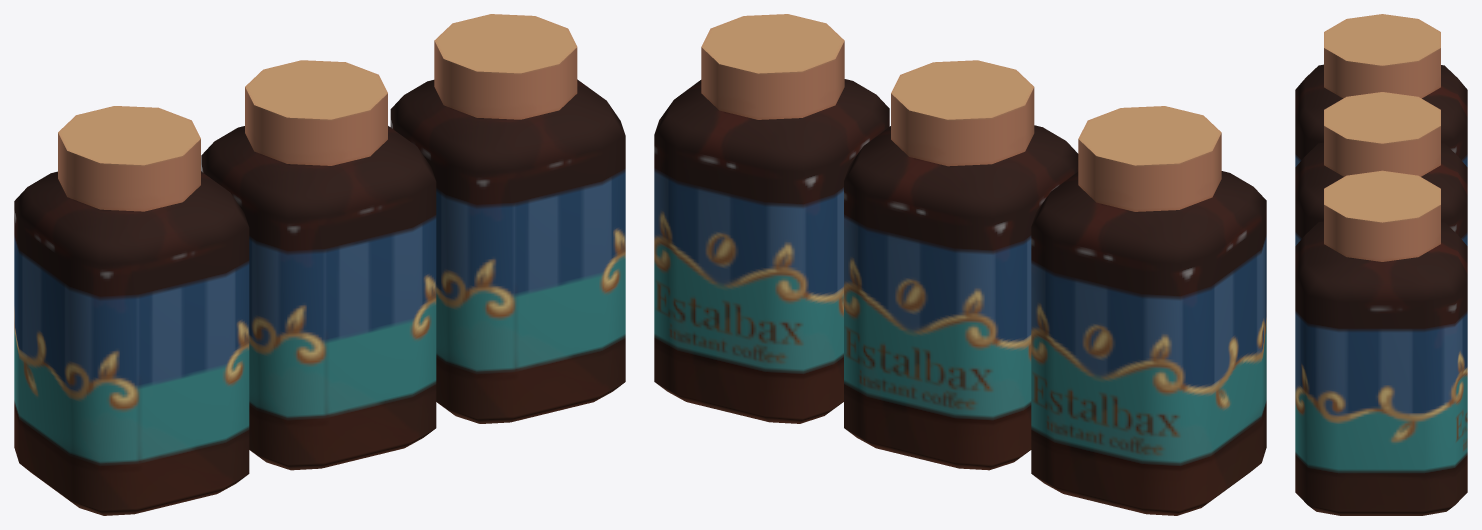
The model's file is coffee.fbx.
3 renders of one model, left to right at view 1: azimuth 30°, elevation 25°; view 2: azimuth 150°, elevation 25°; view 3: azimuth 270°, elevation 25°, orthographic. The views are drawn at different scales.
Visible parts, largest first — view 1: coffee; view 2: coffee; view 3: coffee.
Boxes of the visible parts, box(x1,y1,x2,y2) form: coffee: box(14, 14, 625, 515); coffee: box(654, 14, 1266, 515); coffee: box(1295, 14, 1467, 515).
Bounding box in the file's own units: 38.4 × 22.39 × 12.17.
Materials: 1 (1 with a texture image).
